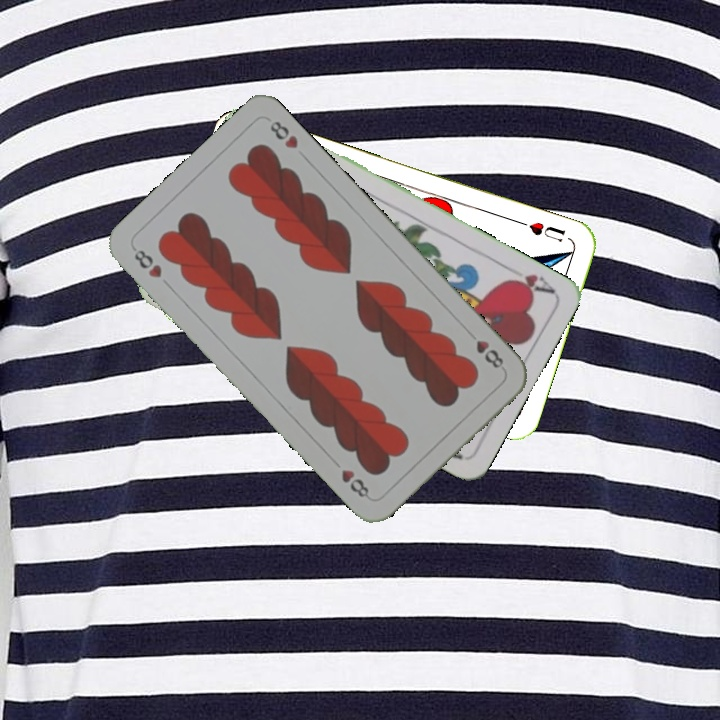H8: (464, 326, 506, 371), (128, 242, 165, 281)
HA: (501, 262, 557, 297)
HU: (515, 217, 568, 245)
